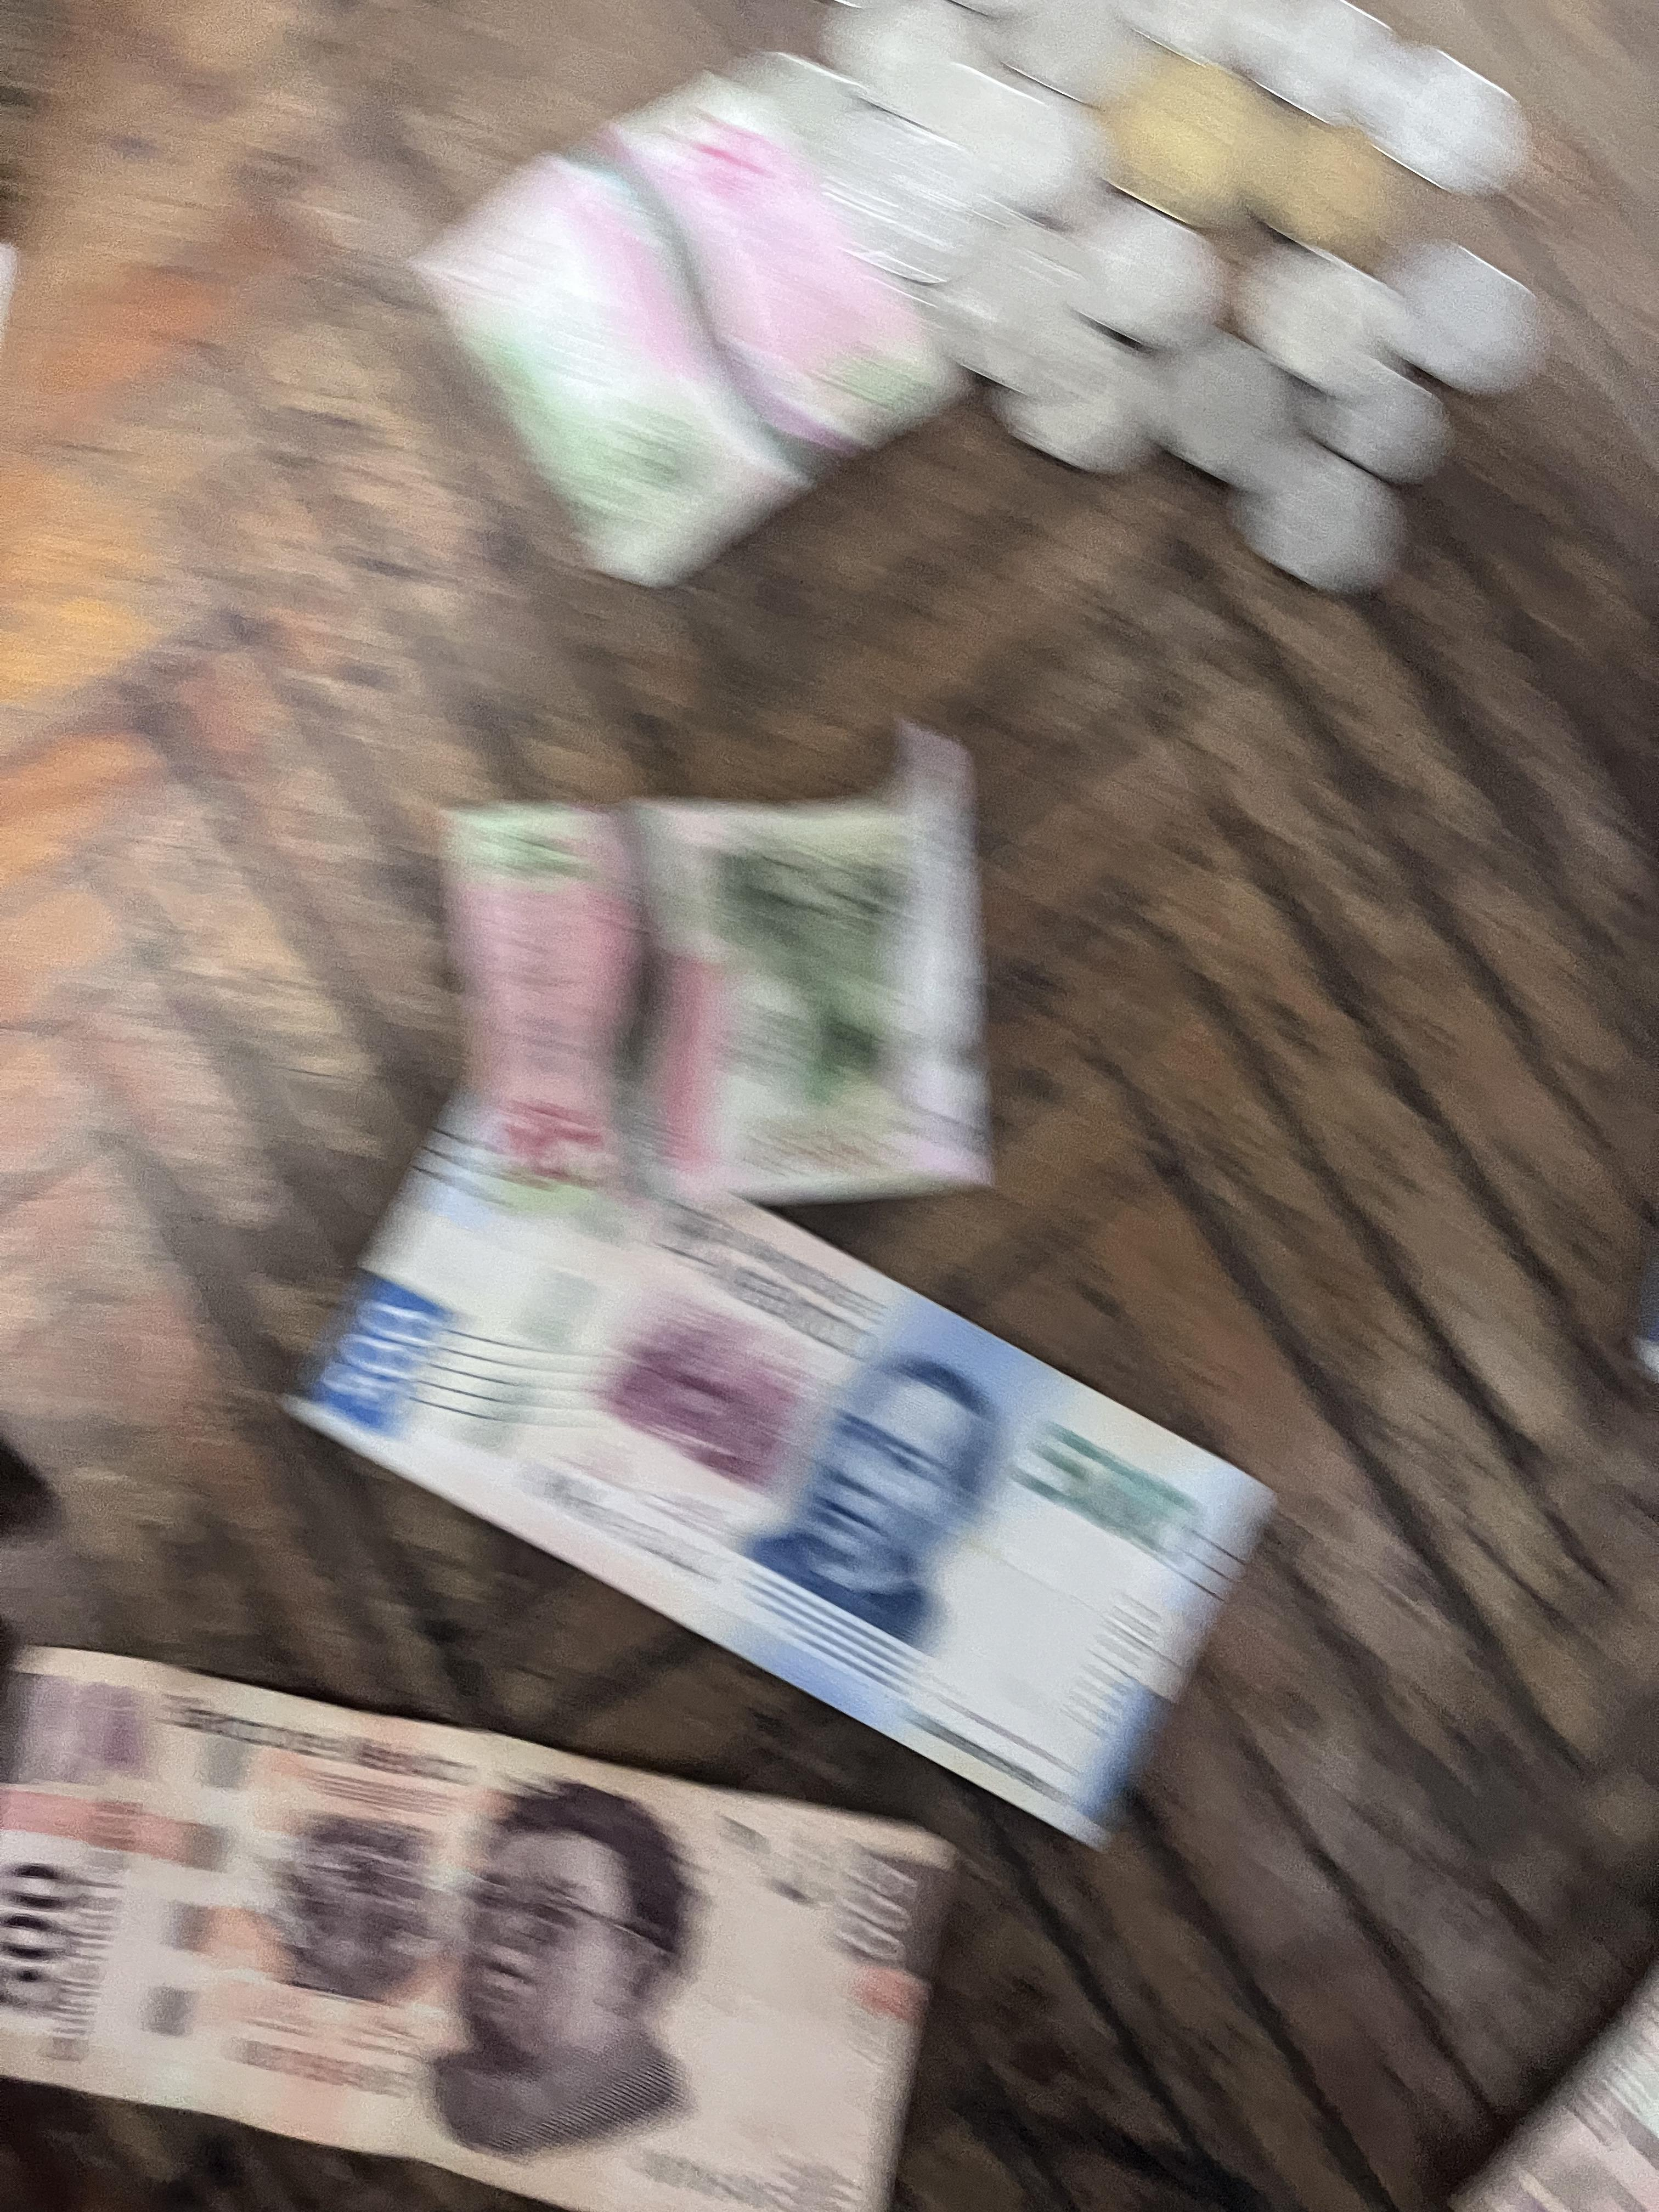20: (390, 54, 1004, 615), (441, 728, 995, 1212)
500 nuevo: (293, 1106, 1276, 1853)
